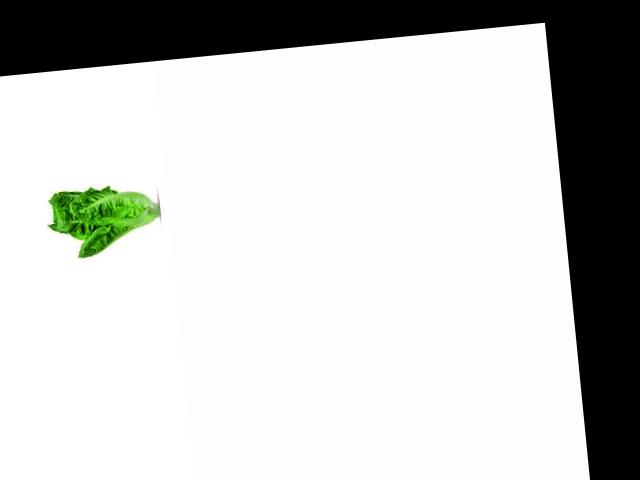lettuce: (43, 177, 159, 261)
